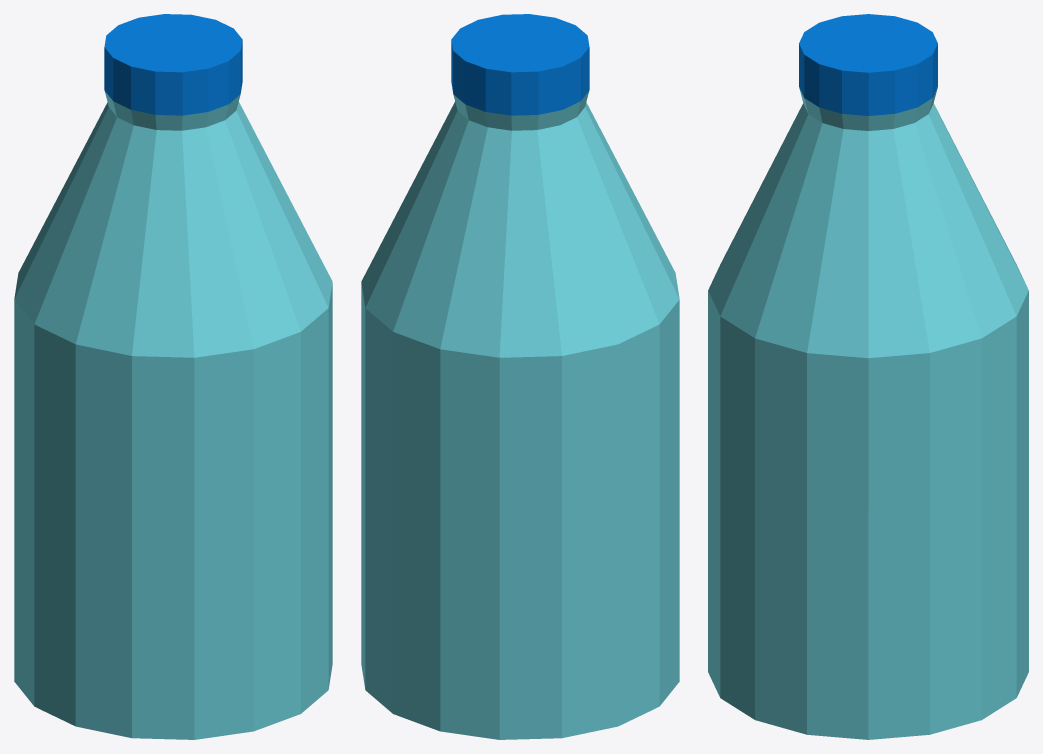
File: BotellaDeColor.fbx
The picture shows the model from 3 angles, left to right: view 1: azimuth 30°, elevation 25°; view 2: azimuth 150°, elevation 25°; view 3: azimuth 270°, elevation 25°; orthographic projection.
Visible parts, largest first — view 1: Cylinder.001; view 2: Cylinder.001; view 3: Cylinder.001.
Boxes of the visible parts, x1,y1,x2,y2 form: Cylinder.001: [14, 14, 332, 739]; Cylinder.001: [361, 14, 679, 739]; Cylinder.001: [708, 14, 1028, 739].
Size of the model in its own units: 200 by 433 by 200.
